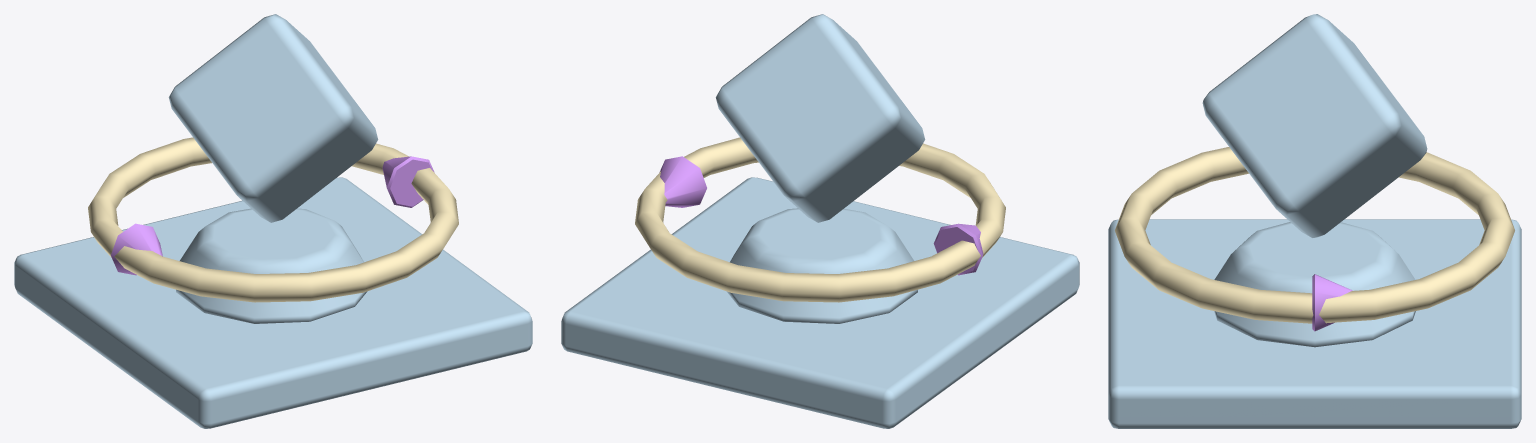
File: R4X_RewardReroll.fbx
3 renders of one model, left to right at view 1: azimuth 30°, elevation 25°; view 2: azimuth 150°, elevation 25°; view 3: azimuth 270°, elevation 25°, orthographic. The views are drawn at different scales.
Parts seen in each view (by area): view 1: R4X_RewardReroll_Body, R4X_RewardReroll_Die; view 2: R4X_RewardReroll_Body, R4X_RewardReroll_Die; view 3: R4X_RewardReroll_Body, R4X_RewardReroll_Die.
Boxes of the visible parts, x1,y1,x2,y2 form: R4X_RewardReroll_Body: (14, 137, 532, 428); R4X_RewardReroll_Die: (168, 14, 378, 222); R4X_RewardReroll_Body: (561, 137, 1079, 428); R4X_RewardReroll_Die: (715, 14, 925, 222); R4X_RewardReroll_Body: (1108, 147, 1521, 428); R4X_RewardReroll_Die: (1202, 14, 1427, 237).
Bounding box in the file's own units: 0.52 × 0.4586 × 0.52.
